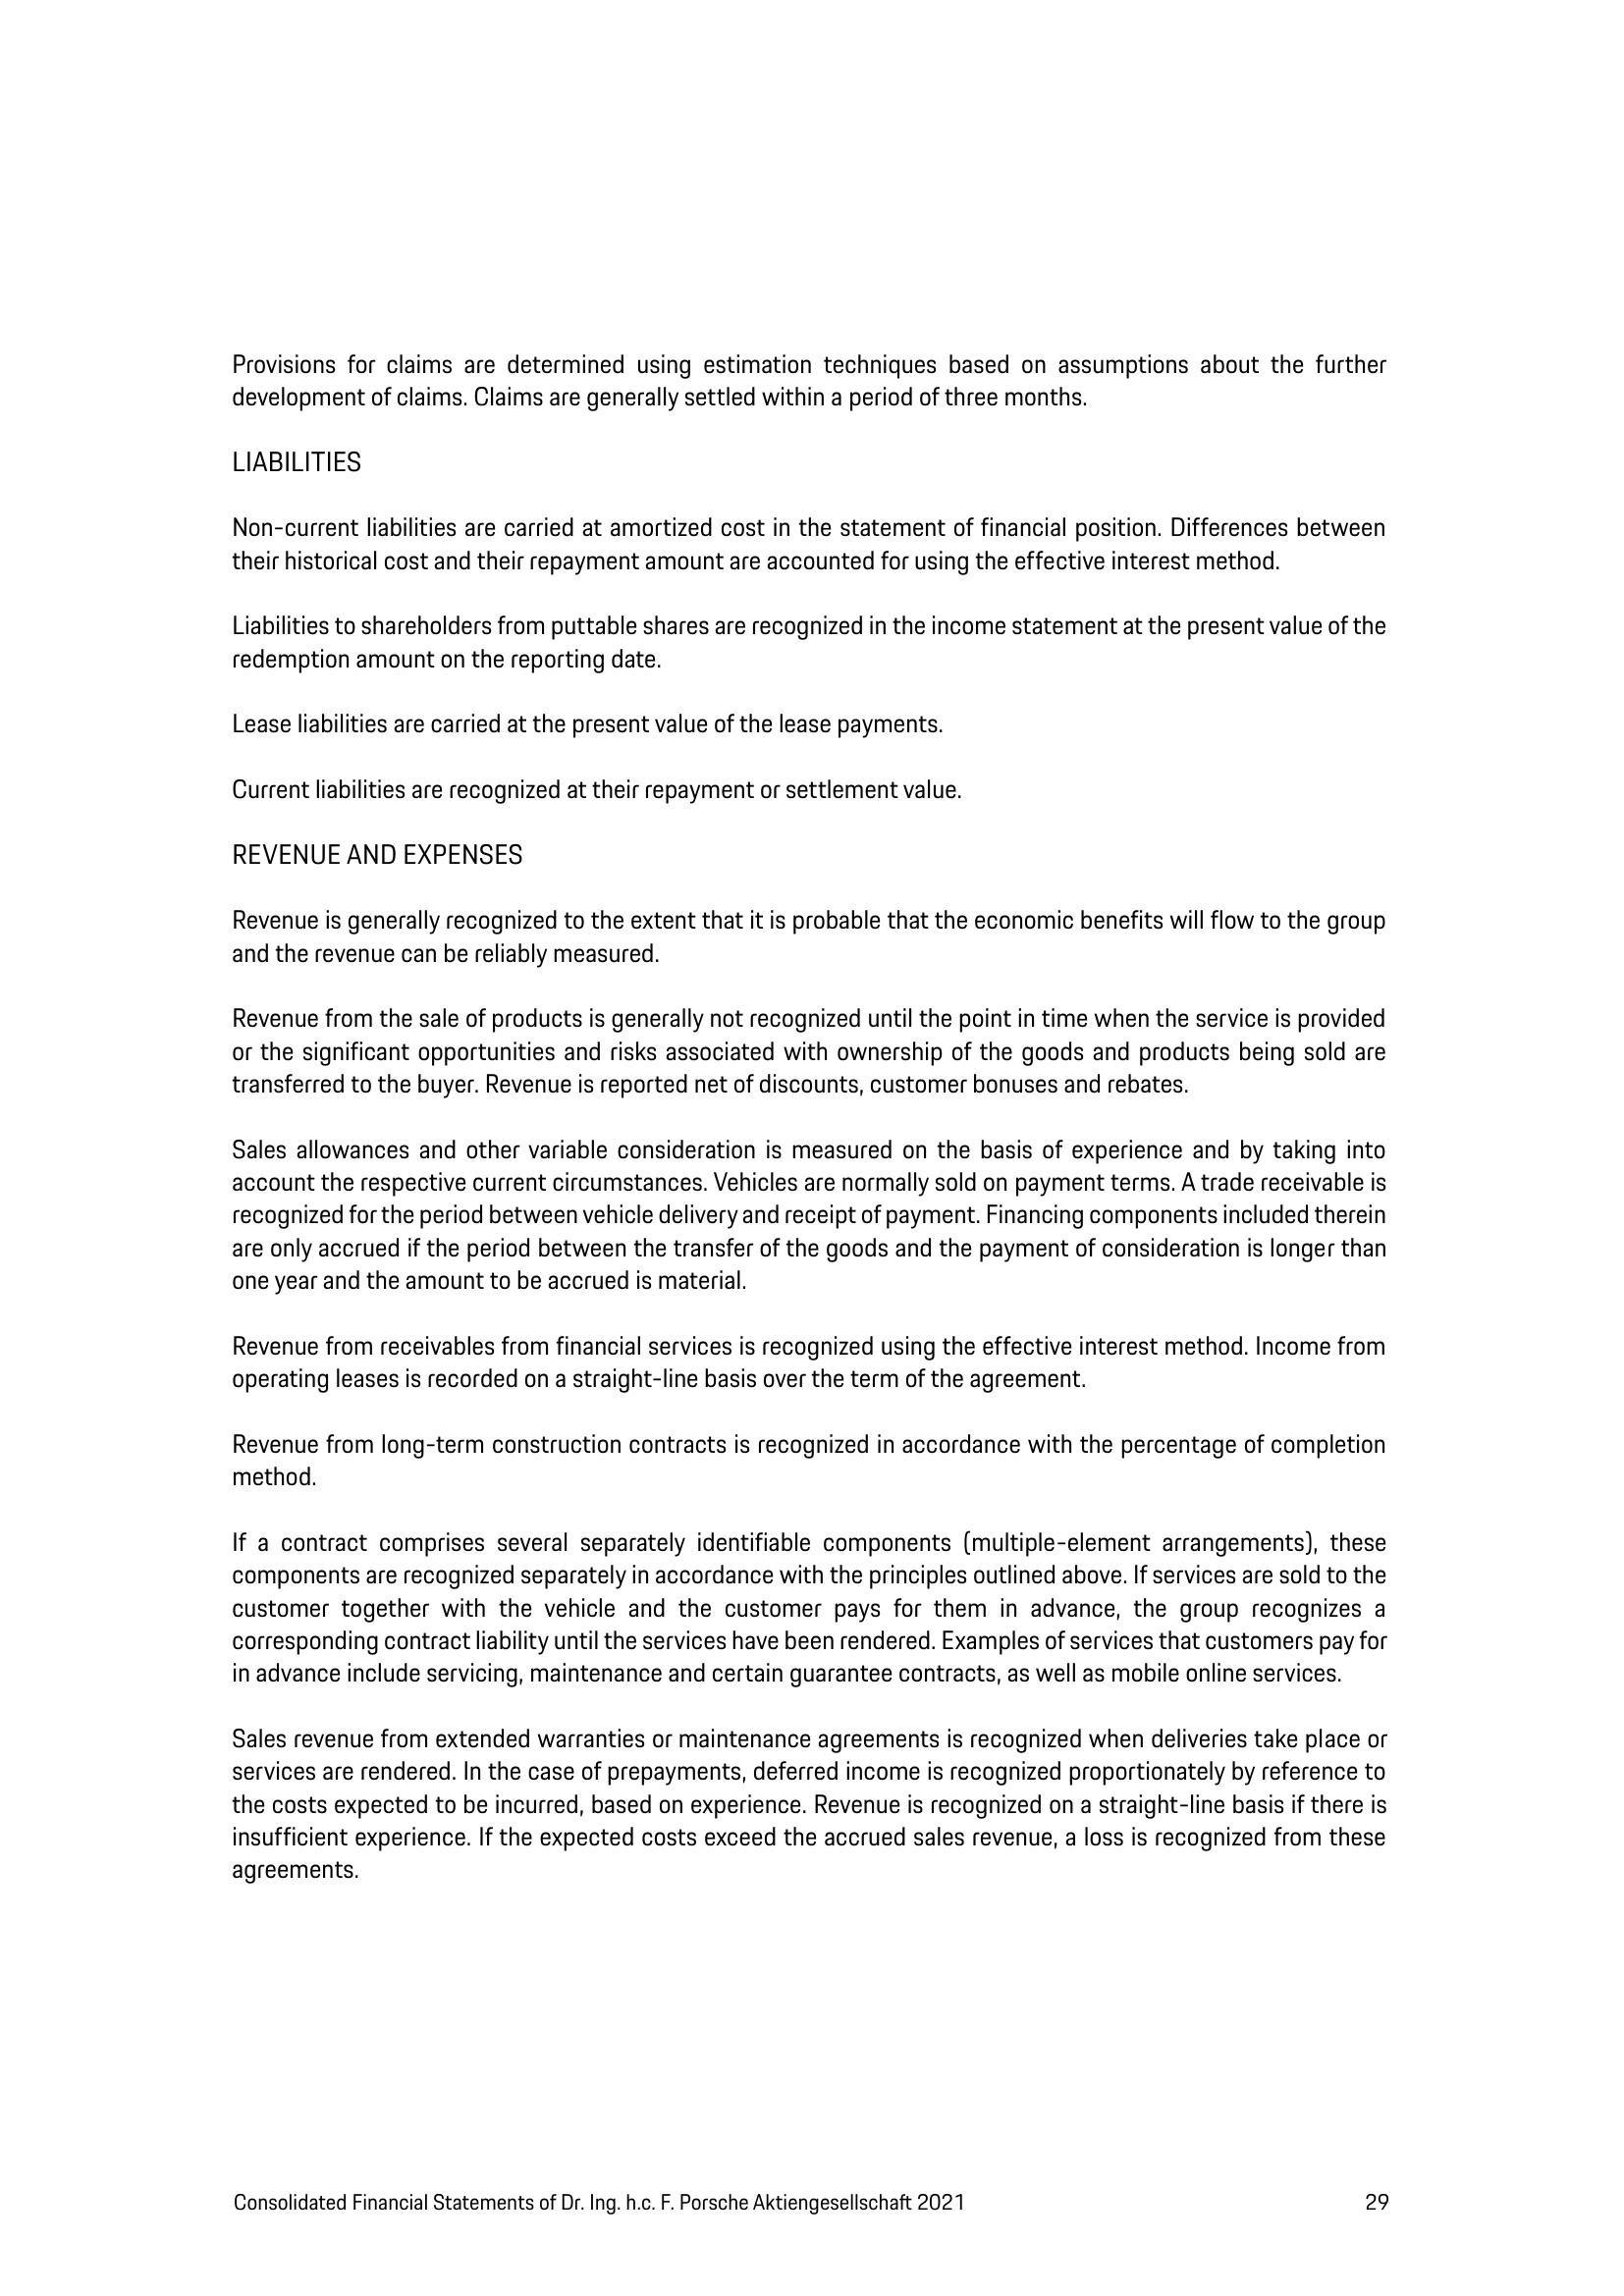Footer: (5, 2143, 1624, 2296)
Header: (0, 0, 1624, 249)
